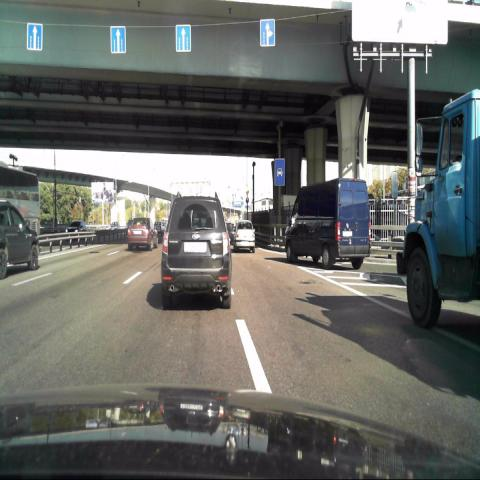5_3: (273, 158, 285, 185)
